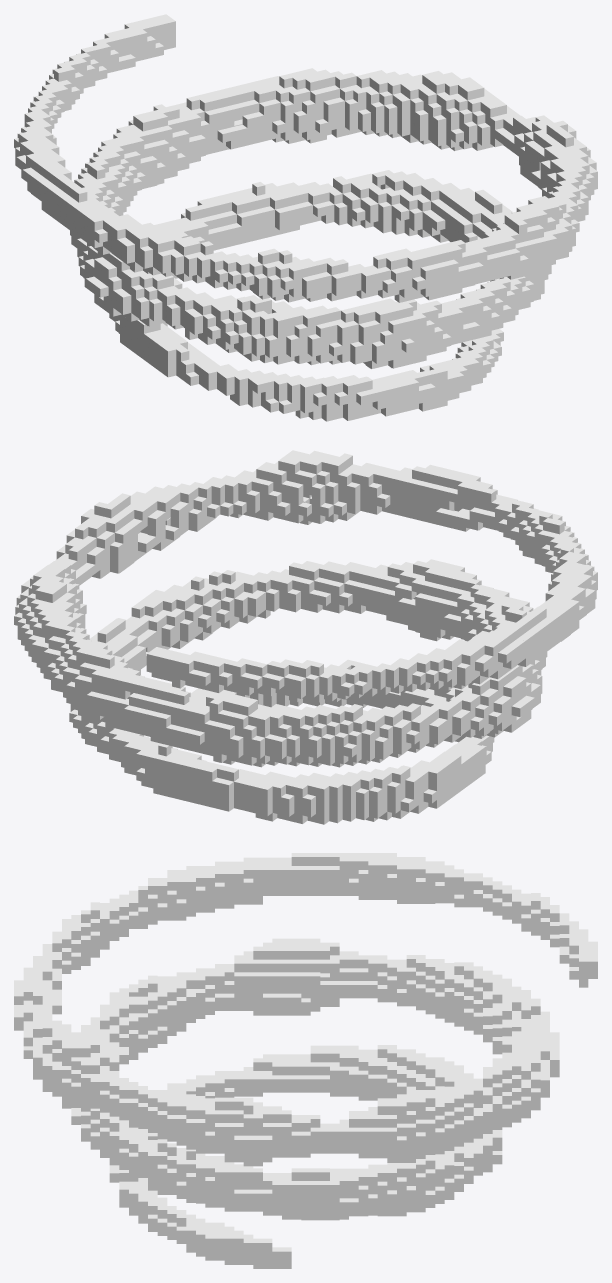
File: voxel02_optimized.fbx
The picture shows the model from 3 angles, top to bottom: view 1: azimuth 30°, elevation 25°; view 2: azimuth 150°, elevation 25°; view 3: azimuth 270°, elevation 25°; orthographic projection.
Parts seen in each view (by area): view 1: voxelize; view 2: voxelize; view 3: voxelize.
Part boxes in pixels (bbox=[...]): voxelize: bbox=[14, 14, 597, 421]; voxelize: bbox=[14, 450, 597, 824]; voxelize: bbox=[14, 853, 597, 1268].
Size of the model in its own units: 7.08 by 3.24 by 7.32.
